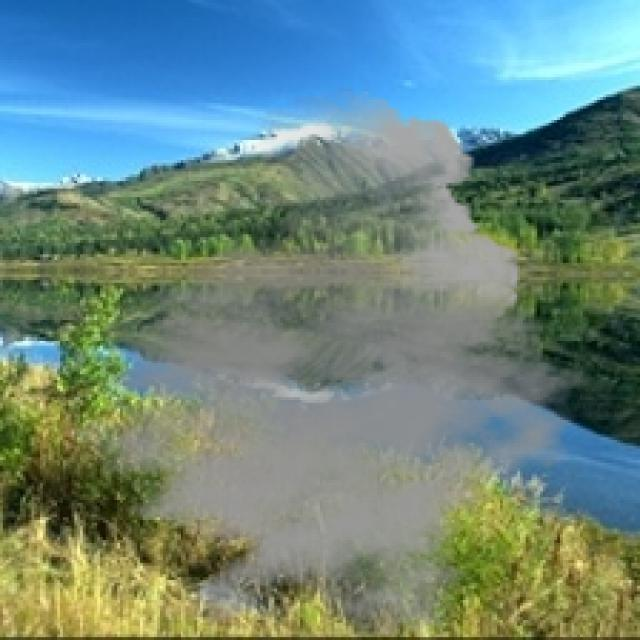Smoke: (37, 88, 594, 638)
